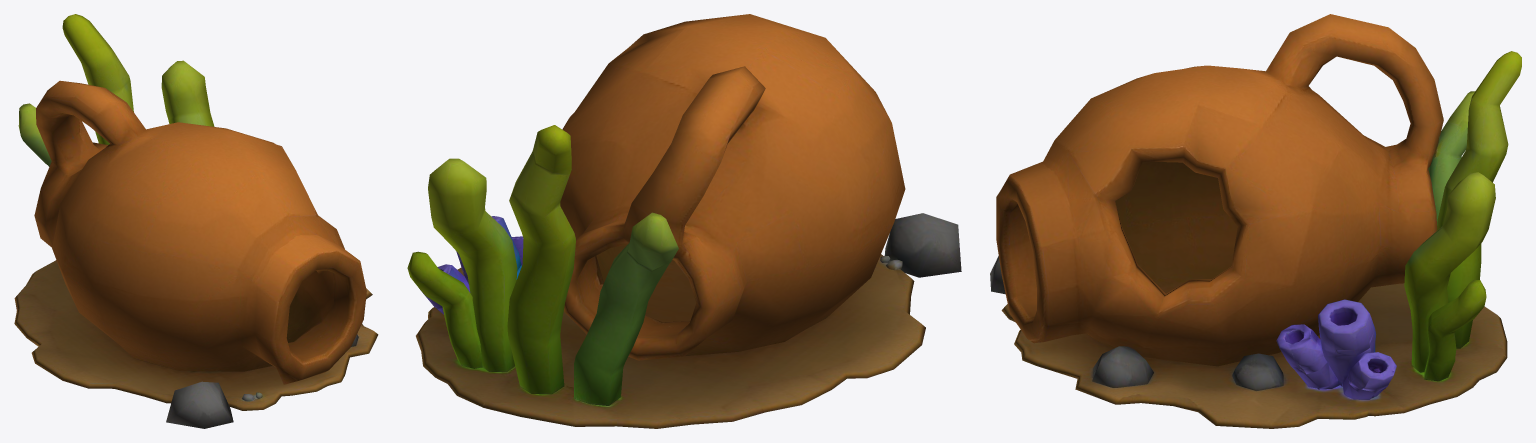
File: amphora_home_clean.glb
3 views of the same model, side by side, from view 1: azimuth 30°, elevation 25°; view 2: azimuth 150°, elevation 25°; view 3: azimuth 270°, elevation 25° (orthographic). The views are drawn at different scales.
Visible parts, largest first — view 1: tripo_node_3efca503-b184-4ed0-a2bd-6bd63c702768; view 2: tripo_node_3efca503-b184-4ed0-a2bd-6bd63c702768; view 3: tripo_node_3efca503-b184-4ed0-a2bd-6bd63c702768.
Boxes of the visible parts, <box> form: tripo_node_3efca503-b184-4ed0-a2bd-6bd63c702768: <box>14,14,378,428</box>; tripo_node_3efca503-b184-4ed0-a2bd-6bd63c702768: <box>407,14,961,428</box>; tripo_node_3efca503-b184-4ed0-a2bd-6bd63c702768: <box>990,14,1521,428</box>.
Size of the model in its own units: 1.1 by 0.75 by 1.3.
Materials: 1 (1 with a texture image).
